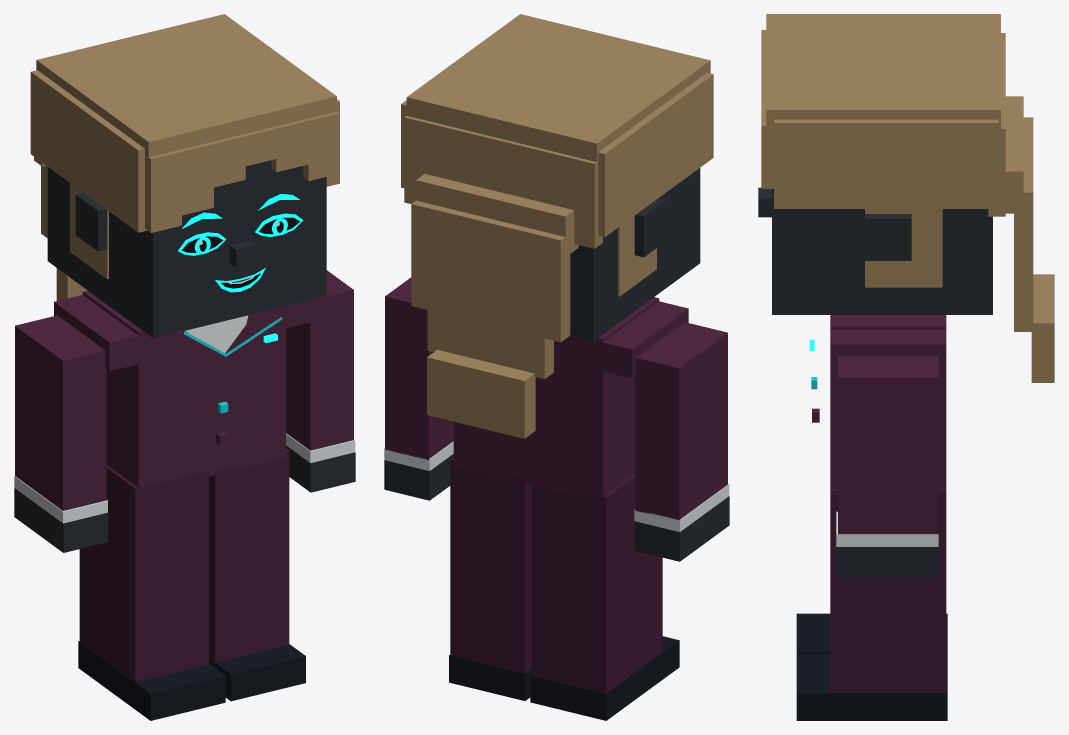
The model's file is agent_male_base_long.glb.
3 views of the same model, side by side, from view 1: azimuth 30°, elevation 25°; view 2: azimuth 150°, elevation 25°; view 3: azimuth 270°, elevation 25° (orthographic). The views are drawn at different scales.
Visible parts, largest first — view 1: char_hair_visual, char_torso_visual, char_head_visual, char_leg_negx_visual, char_arm_negx_visual, char_leg_posx_visual, char_arm_posx_visual, char_hand_negx_visual, char_hand_posx_visual, char_eye_negx_visual, char_eye_posx_visual; view 2: char_hair_visual, char_torso_visual, char_leg_negx_visual, char_arm_negx_visual, char_leg_posx_visual, char_head_visual, char_arm_posx_visual, char_hand_negx_visual, char_hand_posx_visual; view 3: char_hair_visual, char_head_visual, char_arm_posx_visual, char_leg_posx_visual, char_torso_visual, char_hand_posx_visual, char_leg_negx_visual.
Boxes of the visible parts, x1,y1,x2,y2 form: char_hair_visual: (30,14,339,300); char_torso_visual: (54,290,314,567); char_head_visual: (47,160,326,338); char_leg_negx_visual: (78,542,225,720); char_arm_negx_visual: (14,315,107,523); char_leg_posx_visual: (209,525,305,701); char_arm_posx_visual: (286,270,355,462); char_hand_negx_visual: (14,488,108,552); char_hand_posx_visual: (286,445,355,492); char_eye_negx_visual: (178,232,226,255); char_eye_posx_visual: (255,213,303,236); char_hair_visual: (401,14,713,438); char_torso_visual: (424,297,688,577); char_leg_negx_visual: (530,552,679,720); char_arm_negx_visual: (634,322,729,531); char_leg_posx_visual: (449,534,531,700); char_head_visual: (570,168,700,341); char_arm_posx_visual: (384,277,453,470); char_hand_negx_visual: (634,496,729,561); char_hand_posx_visual: (384,454,453,500); char_hair_visual: (761,14,1054,382); char_head_visual: (758,187,992,314); char_arm_posx_visual: (836,356,938,546); char_leg_posx_visual: (796,567,947,720); char_torso_visual: (811,315,946,567); char_hand_posx_visual: (835,524,938,577); char_leg_negx_visual: (796,613,947,654).
Size of the model in its own units: 0.91 by 1.77 by 0.766.
